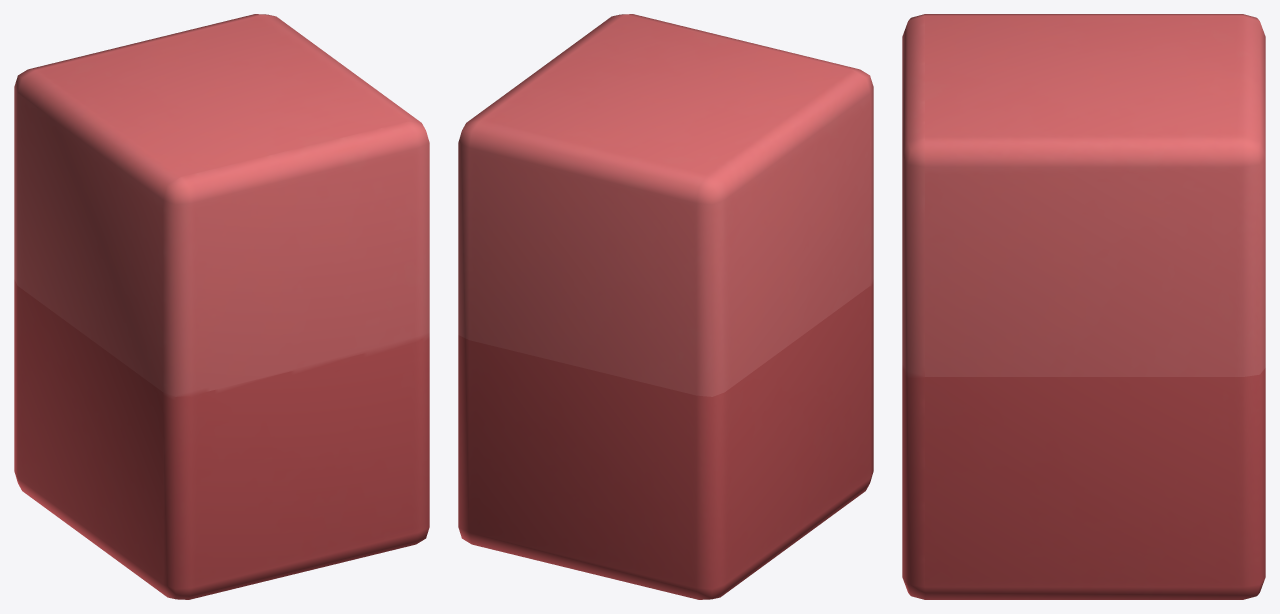
File: DoubleCube.fbx
3 renders of one model, left to right at view 1: azimuth 30°, elevation 25°; view 2: azimuth 150°, elevation 25°; view 3: azimuth 270°, elevation 25°, orthographic. The views are drawn at different scales.
Visible parts, largest first — view 1: DoubleCube; view 2: DoubleCube; view 3: DoubleCube.
Part boxes in pixels (bbox=[...]): DoubleCube: bbox=[14, 14, 429, 599]; DoubleCube: bbox=[458, 14, 873, 599]; DoubleCube: bbox=[902, 14, 1265, 599].
Bounding box in the file's own units: 126 × 193 × 138.
